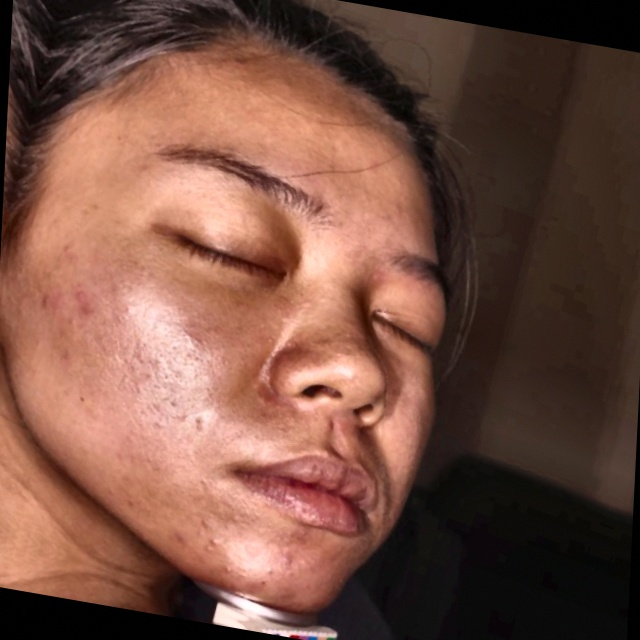comedone: (64, 282, 103, 323), (161, 520, 194, 554)
